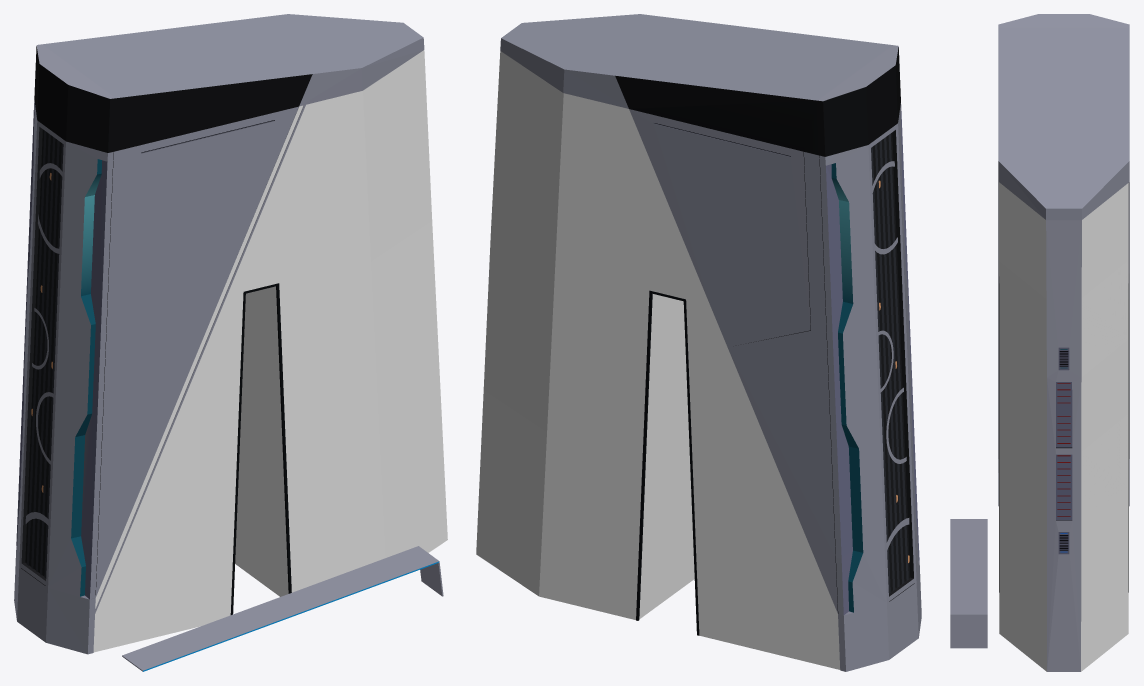
File: Building_006_2st_L3.fbx
The picture shows the model from 3 angles, left to right: view 1: azimuth 30°, elevation 25°; view 2: azimuth 150°, elevation 25°; view 3: azimuth 270°, elevation 25°; orthographic projection. The views are drawn at different scales.
Parts seen in each view (by area): view 1: Building_006_2st_L3; view 2: Building_006_2st_L3; view 3: Building_006_2st_L3.
Part boxes in pixels (x1,y1,x2,y2): Building_006_2st_L3: (14, 14, 447, 671); Building_006_2st_L3: (476, 14, 921, 671); Building_006_2st_L3: (950, 14, 1129, 671).
Size of the model in its own units: 58.59 by 76.63 by 25.15.
